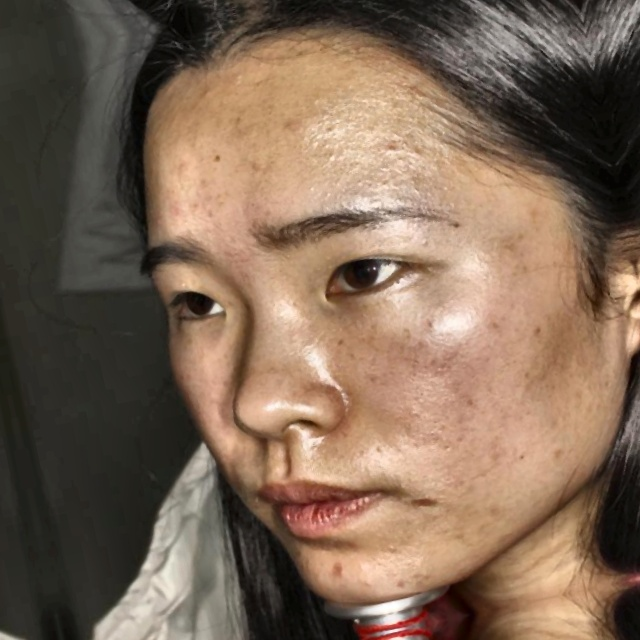comedone: (398, 481, 435, 517), (324, 555, 346, 586)
